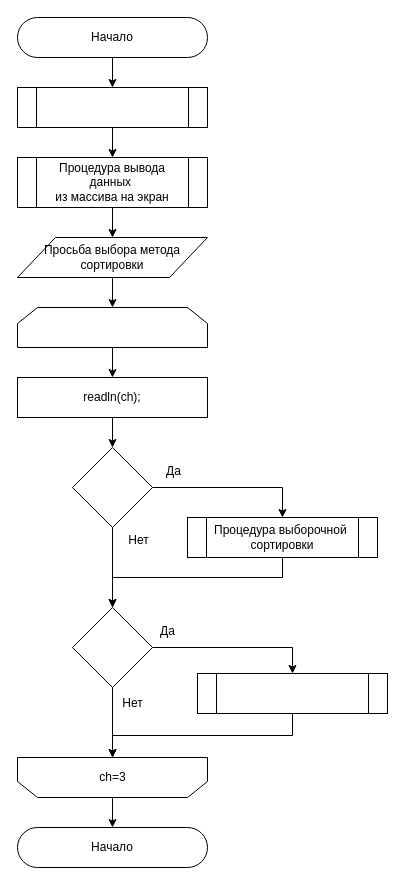
Some shapes in this 405 by 885 pixel diagram are drawn without their labels. Here are the shapes that lost their labels. From the top down, the box of each, then its label:
(16, 86, 208, 128): Процедура ввода данных из файла в массив
(72, 446, 152, 528): ch = 1
(72, 606, 152, 688): ch = 2
(196, 672, 388, 714): Процедура пузырьковой сортировки
